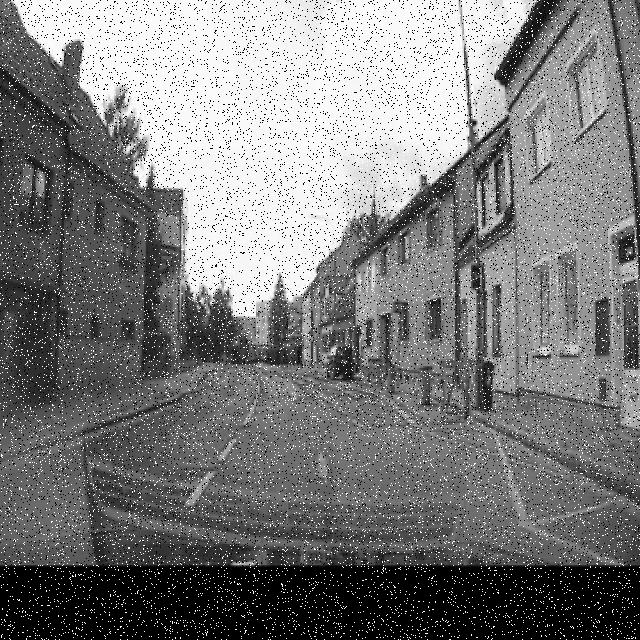clear-road: (90, 367, 469, 495)
